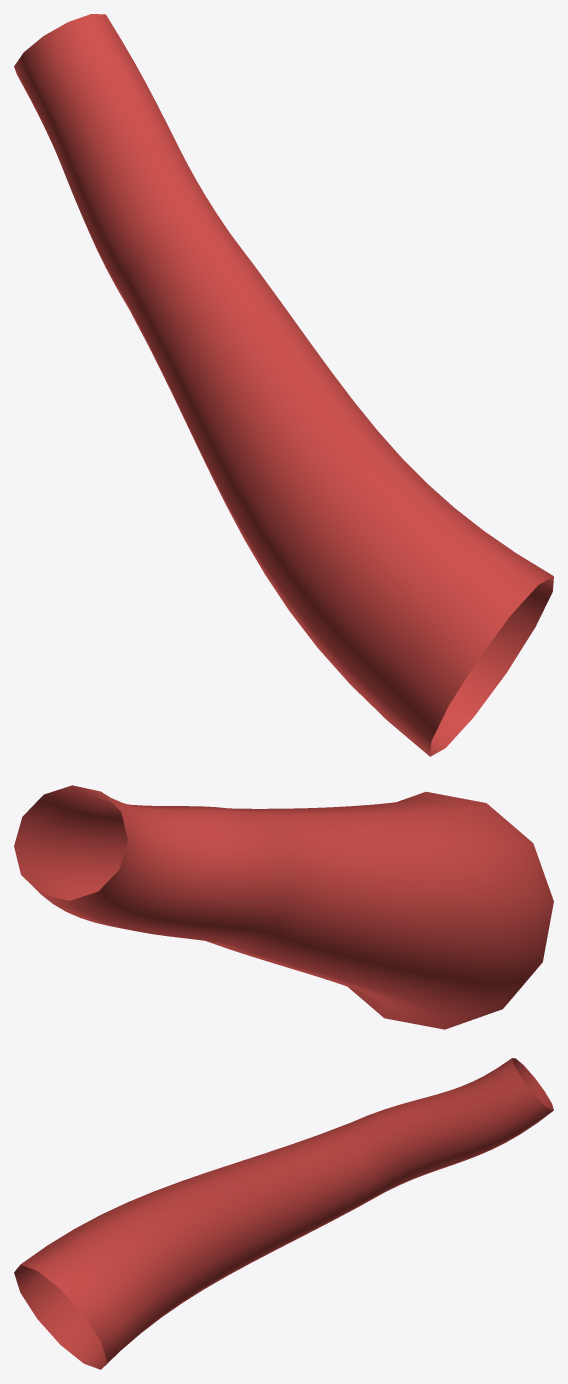
3 renders of one model, top to bottom at view 1: azimuth 30°, elevation 25°; view 2: azimuth 150°, elevation 25°; view 3: azimuth 270°, elevation 25°, orthographic. The views are drawn at different scales.
Parts seen in each view (by area): view 1: 右侧髂内动脉; view 2: 右侧髂内动脉; view 3: 右侧髂内动脉.
Part boxes in pixels (bbox=[...]): 右侧髂内动脉: bbox=[14, 14, 553, 756]; 右侧髂内动脉: bbox=[14, 785, 553, 1029]; 右侧髂内动脉: bbox=[14, 1058, 553, 1369].
Size of the model in its own units: 0.0203 by 0.0428 by 0.0706.
